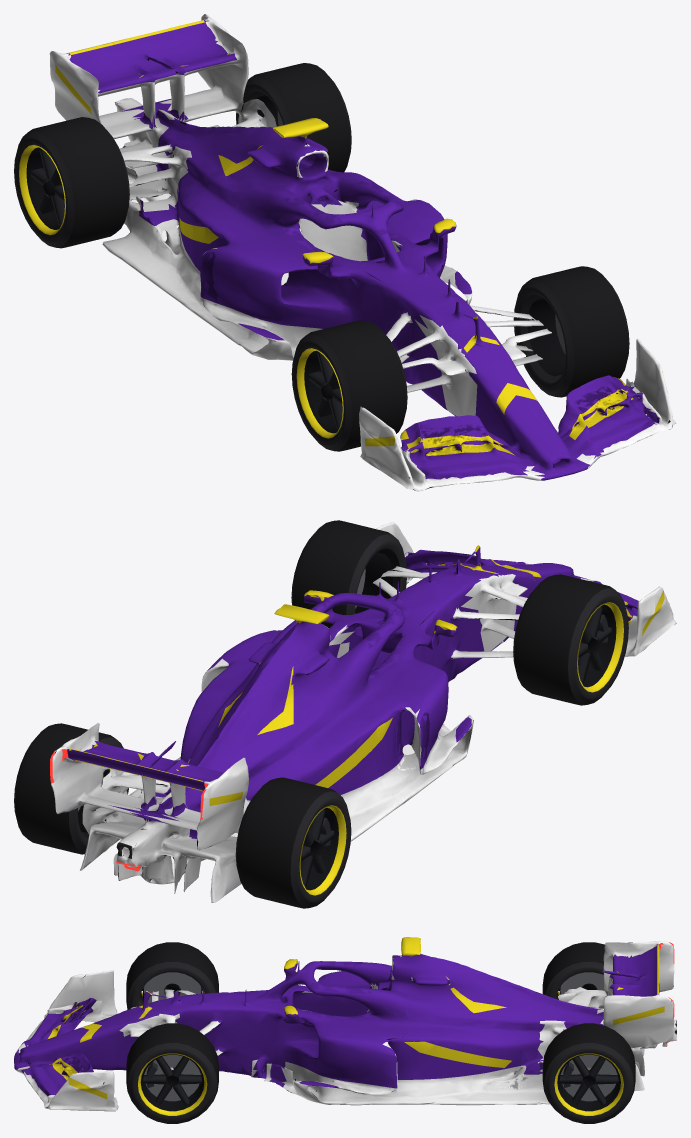
Rendered from formula.glb.
3 views of the same model, one above another, from view 1: azimuth 30°, elevation 25°; view 2: azimuth 150°, elevation 25°; view 3: azimuth 270°, elevation 25° (orthographic). The views are drawn at different scales.
Parts seen in each view (by area): view 1: body, wheel_RR, wheel_FR, wheel_FL, wheel_RL; view 2: body, wheel_FR, wheel_RR, wheel_FL, wheel_RL; view 3: body, wheel_RL, wheel_FL, wheel_FR, wheel_RR.
Part boxes in pixels (bbox=[...]): body: bbox=[49, 14, 676, 491]; wheel_RR: bbox=[14, 117, 129, 248]; wheel_FR: bbox=[291, 320, 407, 451]; wheel_FL: bbox=[513, 266, 629, 397]; wheel_RL: bbox=[236, 63, 351, 172]; body: bbox=[50, 521, 676, 902]; wheel_FR: bbox=[513, 574, 628, 705]; wheel_RR: bbox=[235, 777, 351, 908]; wheel_FL: bbox=[291, 520, 406, 628]; wheel_RL: bbox=[14, 723, 128, 854]; body: bbox=[14, 937, 676, 1111]; wheel_RL: bbox=[542, 1023, 635, 1123]; wheel_FL: bbox=[126, 1023, 218, 1123]; wheel_FR: bbox=[126, 942, 218, 1009]; wheel_RR: bbox=[542, 942, 604, 1008].
Size of the model in its own units: 1.91 by 1.11 by 5.14.
12 materials, 3 textured.
